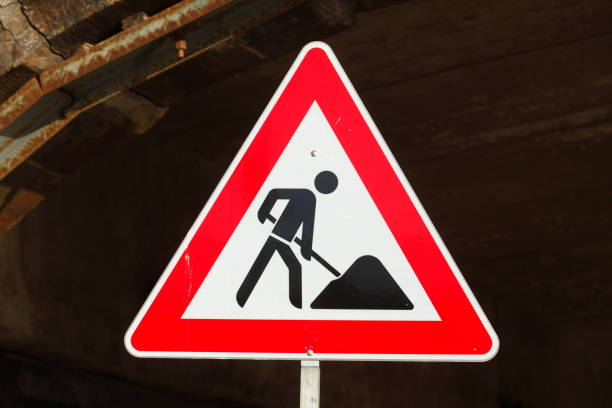yol_calismasi_levha: (123, 39, 501, 366)
